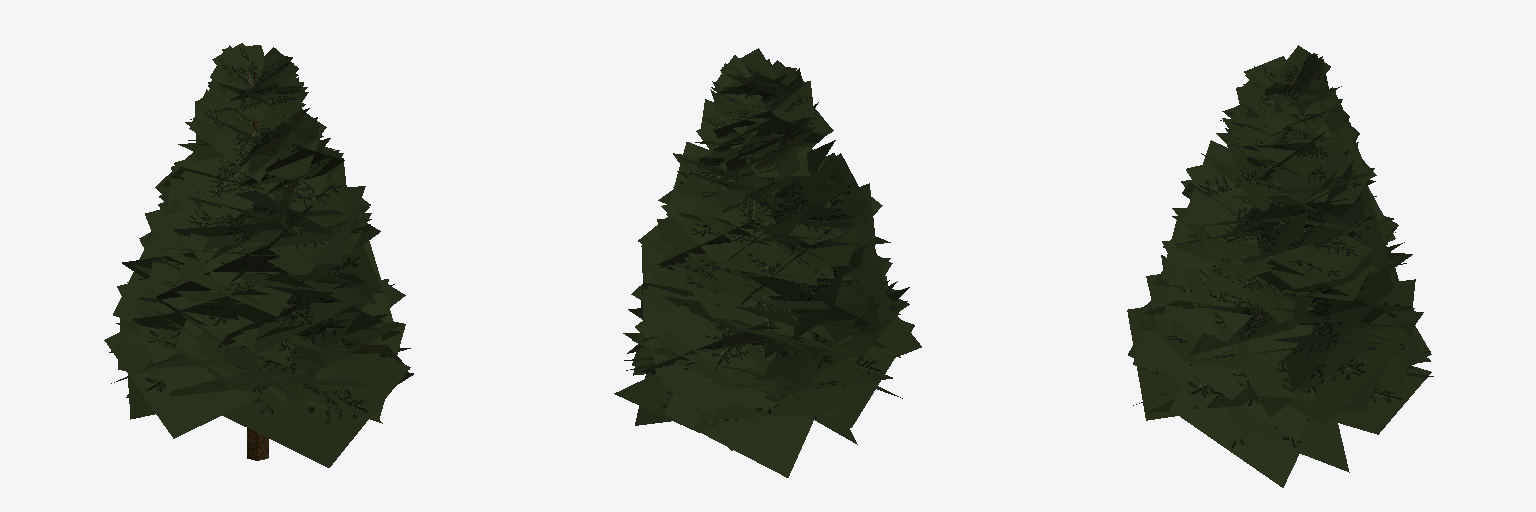
The picture shows the model from 3 angles: view 1: azimuth 30°, elevation 25°; view 2: azimuth 150°, elevation 25°; view 3: azimuth 270°, elevation 25°; orthographic projection.
Visible parts, largest first — view 1: Default; view 2: Default; view 3: Default.
Boxes of the visible parts, x1=… form: Default: x1=104, y1=43, x2=413, y2=467; Default: x1=614, y1=48, x2=921, y2=477; Default: x1=1127, y1=45, x2=1433, y2=487.
Size of the model in its own units: 7.19 by 10.3 by 7.29.
2 materials, 2 textured.